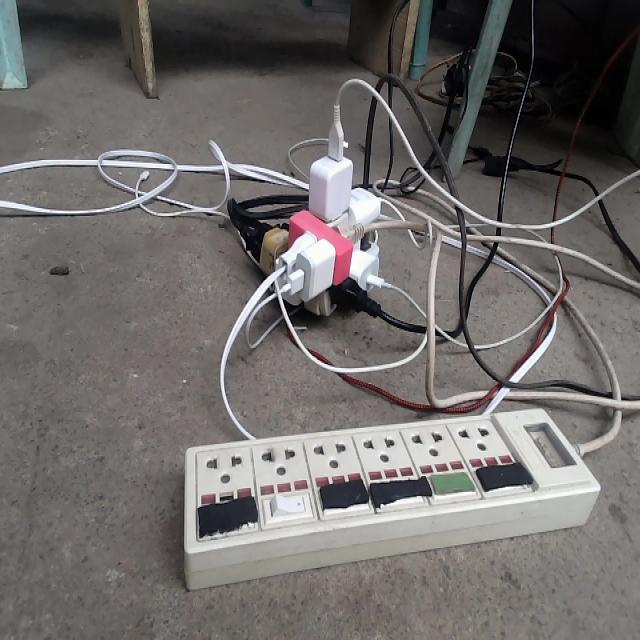-: (226, 95, 384, 321)
